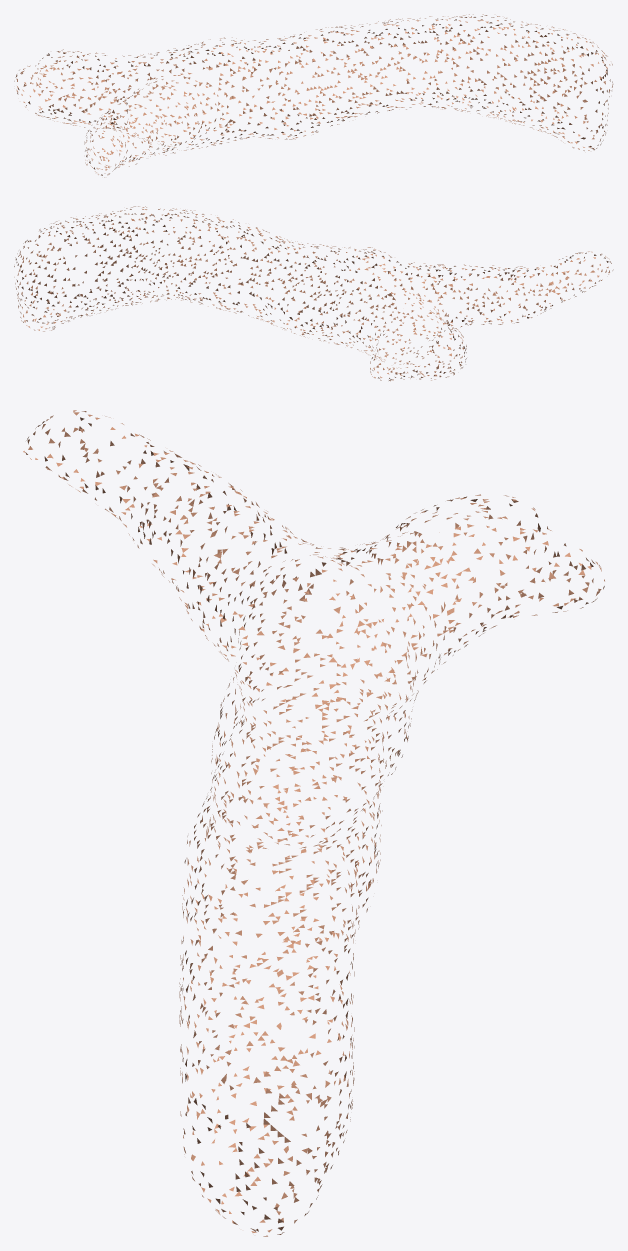
File: morph_004.glb
3 views of the same model, one above another, from view 1: azimuth 30°, elevation 25°; view 2: azimuth 150°, elevation 25°; view 3: azimuth 270°, elevation 25° (orthographic). The views are drawn at different scales.
Size of the model in its own units: 126 by 38.74 by 59.53.
